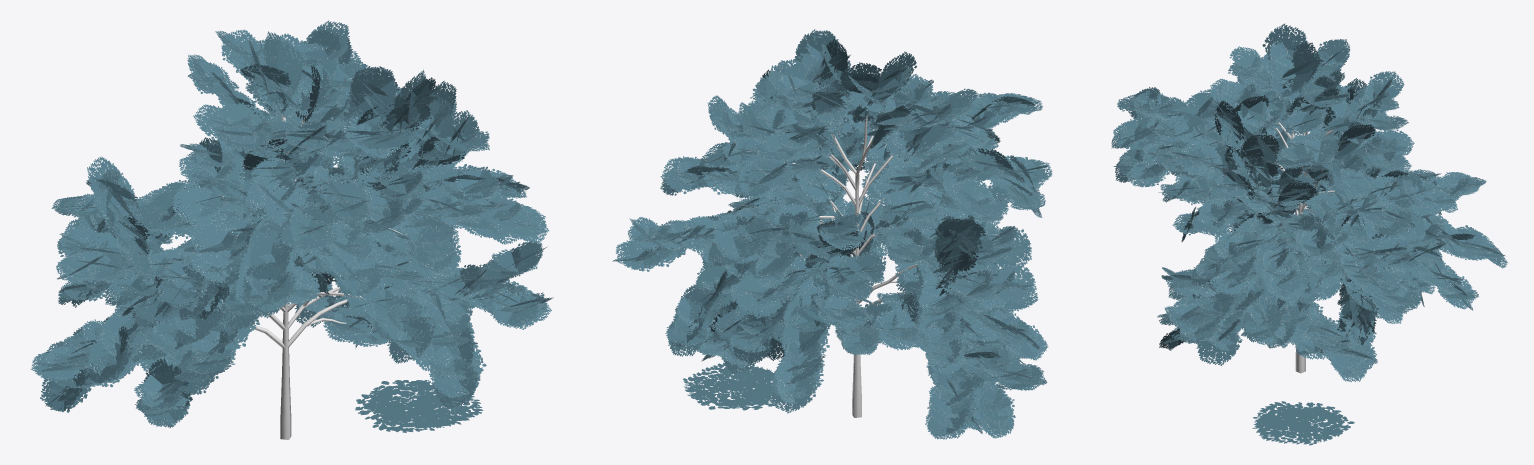
The model's file is arbolito_blender3.fbx.
The picture shows the model from 3 angles, left to right: view 1: azimuth 30°, elevation 25°; view 2: azimuth 150°, elevation 25°; view 3: azimuth 270°, elevation 25°; orthographic projection. The views are drawn at different scales.
Parts seen in each view (by area): view 1: Plane, Tree, leafs|Plane|Dupli|1482, leafs|Plane|Dupli|2472, leafs|Plane|Dupli|282, leafs|Plane|Dupli|2848, leafs|Plane|Dupli|2064, leafs|Plane|Dupli|1101, leafs|Plane|Dupli|2271, leafs|Plane|Dupli|2036, leafs|Plane|Dupli|1209, leafs|Plane|Dupli|769 (+26 smaller); view 2: Plane, Tree, leafs|Plane|Dupli|432, leafs|Plane|Dupli|2309, leafs|Plane|Dupli|1933, leafs|Plane|Dupli|2910, leafs|Plane|Dupli|2199, leafs|Plane|Dupli|1914, leafs|Plane|Dupli|1941, leafs|Plane|Dupli|794, leafs|Plane|Dupli|2050, leafs|Plane|Dupli|1377 (+24 smaller); view 3: Plane, leafs|Plane|Dupli|2058, leafs|Plane|Dupli|1941, leafs|Plane|Dupli|1178, leafs|Plane|Dupli|927, Tree, leafs|Plane|Dupli|2827, leafs|Plane|Dupli|617, leafs|Plane|Dupli|1007, leafs|Plane|Dupli|258, leafs|Plane|Dupli|2918, leafs|Plane|Dupli|2157 (+13 smaller).
Part boxes in pixels (x1=…): Plane: x1=355, y1=380, x2=483, y2=432; Tree: x1=150, y1=56, x2=464, y2=439; leafs|Plane|Dupli|1482: x1=172, y1=181, x2=221, y2=226; leafs|Plane|Dupli|2472: x1=189, y1=222, x2=232, y2=270; leafs|Plane|Dupli|282: x1=250, y1=41, x2=304, y2=98; leafs|Plane|Dupli|2848: x1=349, y1=66, x2=399, y2=108; leafs|Plane|Dupli|2064: x1=348, y1=66, x2=396, y2=119; leafs|Plane|Dupli|1101: x1=415, y1=224, x2=458, y2=272; leafs|Plane|Dupli|2271: x1=387, y1=316, x2=435, y2=363; leafs|Plane|Dupli|2036: x1=87, y1=156, x2=129, y2=210; leafs|Plane|Dupli|1209: x1=260, y1=185, x2=304, y2=227; leafs|Plane|Dupli|769: x1=438, y1=110, x2=479, y2=155; Plane: x1=683, y1=363, x2=780, y2=410; Tree: x1=747, y1=87, x2=1004, y2=417; leafs|Plane|Dupli|432: x1=990, y1=264, x2=1036, y2=303; leafs|Plane|Dupli|2309: x1=735, y1=269, x2=785, y2=318; leafs|Plane|Dupli|1933: x1=875, y1=308, x2=918, y2=350; leafs|Plane|Dupli|2910: x1=747, y1=158, x2=796, y2=187; leafs|Plane|Dupli|2199: x1=847, y1=251, x2=886, y2=288; leafs|Plane|Dupli|1914: x1=770, y1=369, x2=815, y2=413; leafs|Plane|Dupli|1941: x1=877, y1=51, x2=916, y2=94; leafs|Plane|Dupli|794: x1=993, y1=227, x2=1031, y2=268; leafs|Plane|Dupli|2050: x1=660, y1=156, x2=703, y2=193; leafs|Plane|Dupli|1377: x1=695, y1=259, x2=737, y2=308; Plane: x1=1252, y1=401, x2=1354, y2=445; leafs|Plane|Dupli|2058: x1=1196, y1=321, x2=1241, y2=365; leafs|Plane|Dupli|1941: x1=1262, y1=23, x2=1307, y2=62; leafs|Plane|Dupli|1178: x1=1307, y1=258, x2=1344, y2=297; leafs|Plane|Dupli|927: x1=1291, y1=42, x2=1320, y2=82; Tree: x1=1261, y1=48, x2=1399, y2=373; leafs|Plane|Dupli|2827: x1=1368, y1=71, x2=1404, y2=101; leafs|Plane|Dupli|617: x1=1240, y1=134, x2=1279, y2=158; leafs|Plane|Dupli|1007: x1=1181, y1=140, x2=1222, y2=175; leafs|Plane|Dupli|258: x1=1441, y1=225, x2=1485, y2=257; leafs|Plane|Dupli|2918: x1=1242, y1=304, x2=1281, y2=342; leafs|Plane|Dupli|2157: x1=1171, y1=113, x2=1209, y2=148.
Bounding box in the file's own units: 4635 × 3803 × 4327.
